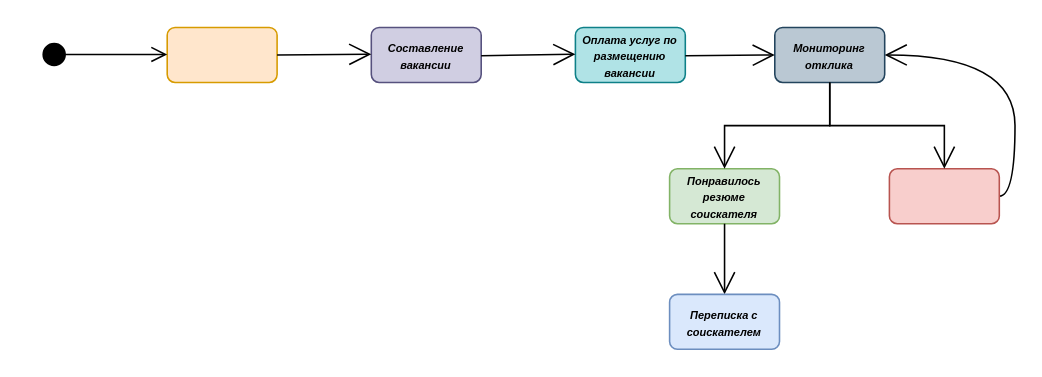
This 1042x377 diagram has some shape labels left out. The centre of each missing label's shape, as x and y in pixels:
"Не понравилось резюме соискателя" belongs at point (943, 195).
"Регистрация на платформе" belongs at point (221, 54).
